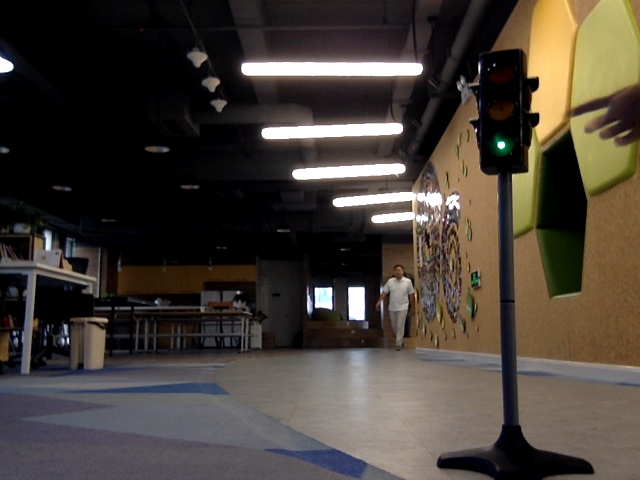green: (479, 54, 517, 164)
